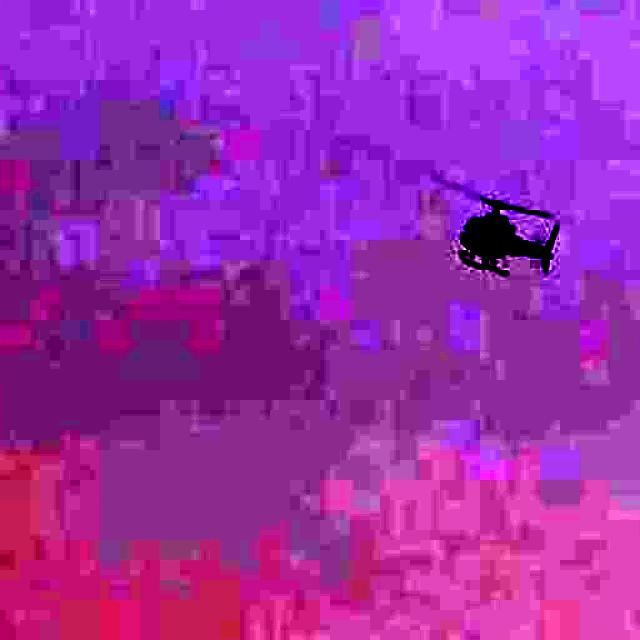drone: (420, 150, 576, 304)
